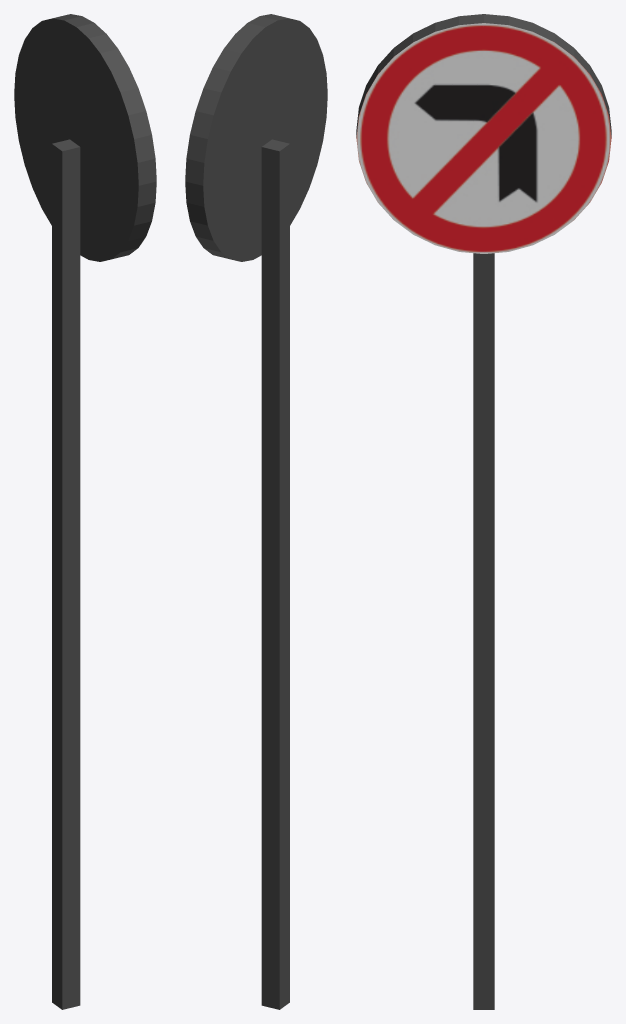
The model's file is sola_donulmez_levha.dae.
3 renders of one model, left to right at view 1: azimuth 30°, elevation 25°; view 2: azimuth 150°, elevation 25°; view 3: azimuth 270°, elevation 25°, orthographic. The views are drawn at different scales.
Parts seen in each view (by area): view 1: Cube.004, Cube.001; view 2: Cube.004, Cube.001; view 3: Cube.001, Cube.004.
Boxes of the visible parts, <box> form: Cube.004: <box>52,139,80,1009</box>; Cube.001: <box>14,14,156,261</box>; Cube.004: <box>261,139,289,1009</box>; Cube.001: <box>185,14,327,261</box>; Cube.001: <box>356,14,611,253</box>; Cube.004: <box>473,253,494,1009</box>.
Bounding box in the file's own units: 0.1039 × 0.6 × 2.59.
2 materials, 1 textured.
